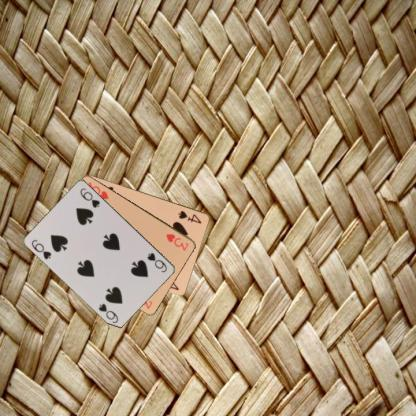3h: (164, 231, 190, 252)
4s: (176, 208, 202, 225)
6s: (144, 250, 168, 274), (29, 237, 53, 260)
